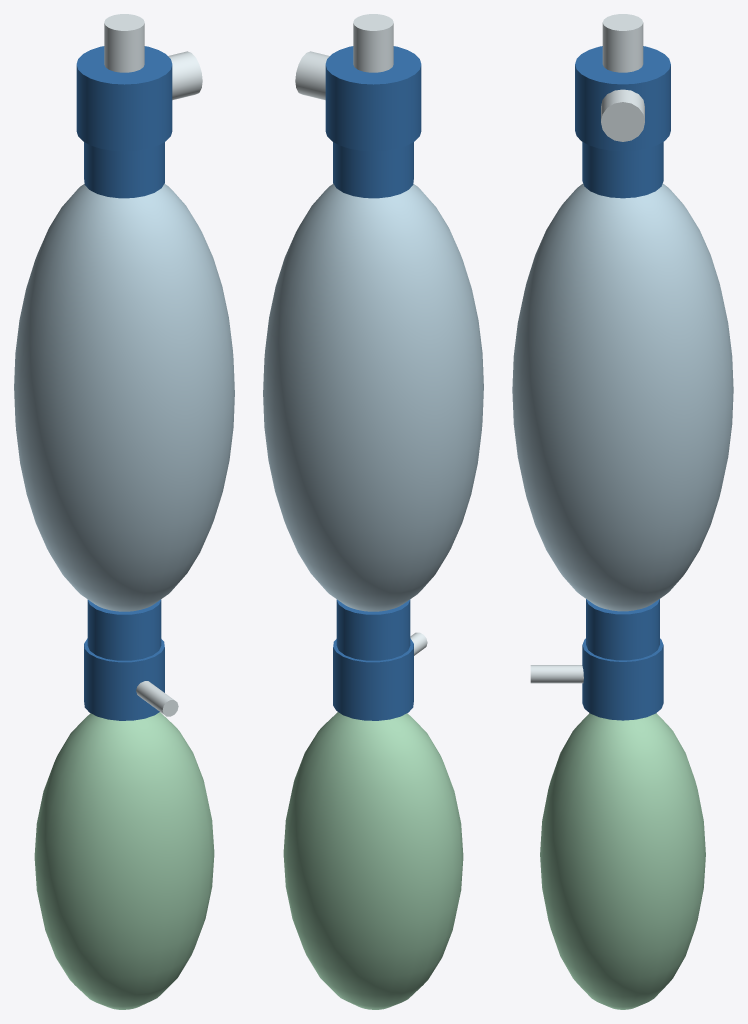
File: bvm.glb
3 views of the same model, side by side, from view 1: azimuth 30°, elevation 25°; view 2: azimuth 150°, elevation 25°; view 3: azimuth 270°, elevation 25° (orthographic).
Visible parts, largest first — view 1: bvm; view 2: bvm; view 3: bvm.
Boxes of the visible parts, x1,y1,x2,y2 form: bvm: (14, 14, 234, 1009); bvm: (263, 14, 483, 1009); bvm: (512, 14, 733, 1009).
Bounding box in the file's own units: 0.12 × 0.588 × 0.12.
